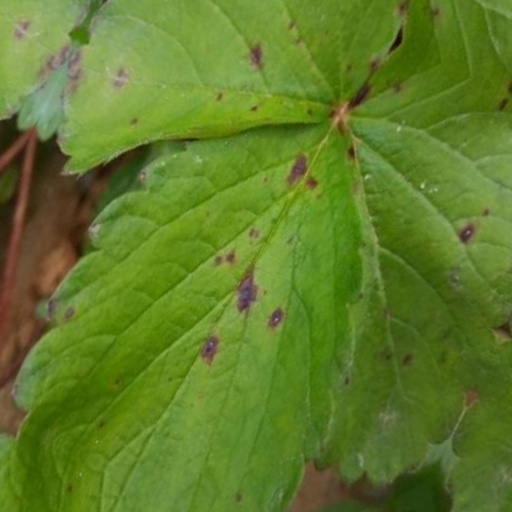Leaf Spot: (90, 94, 404, 511), (268, 0, 511, 424), (0, 0, 290, 273)
